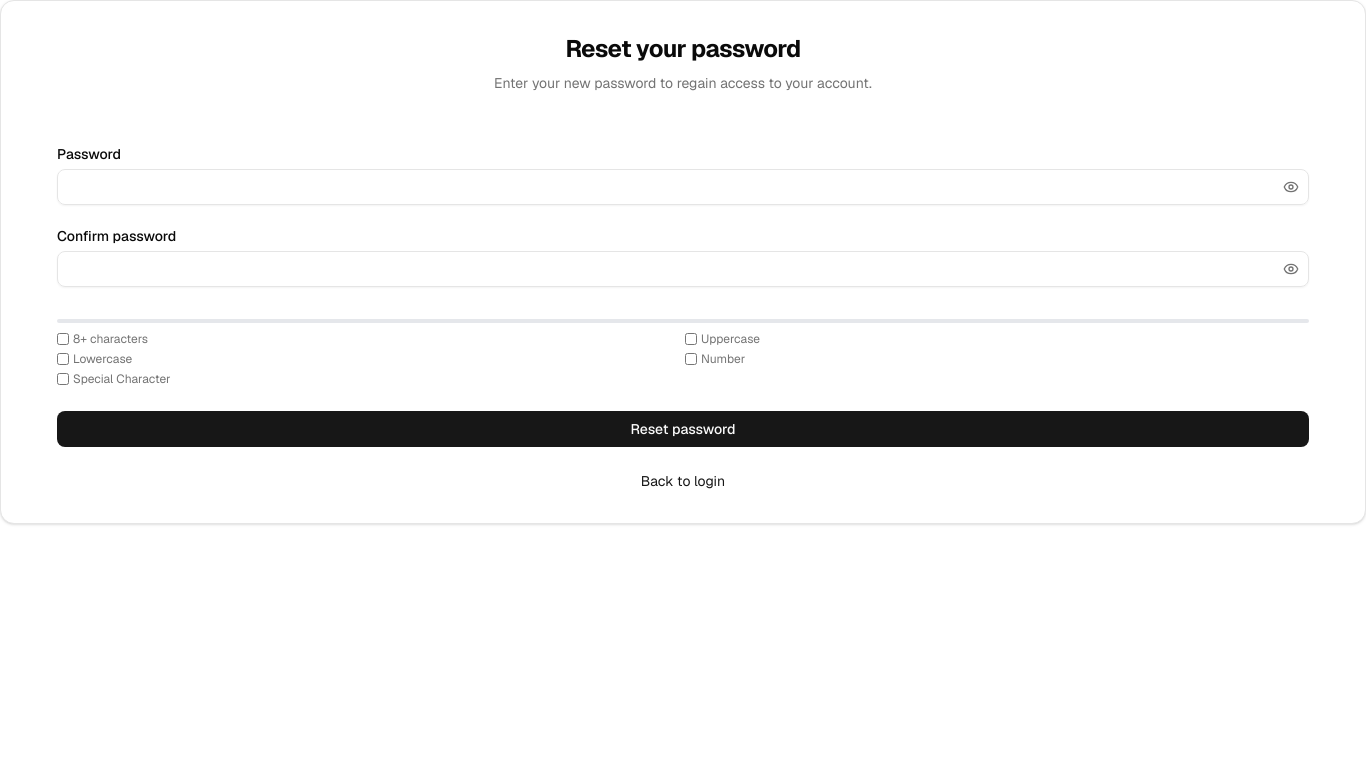
Render Reset Password Form › should show error message when fields are empty
Click the button "Reset password".
click(683, 429)  # box 57,411 -> 1309,447
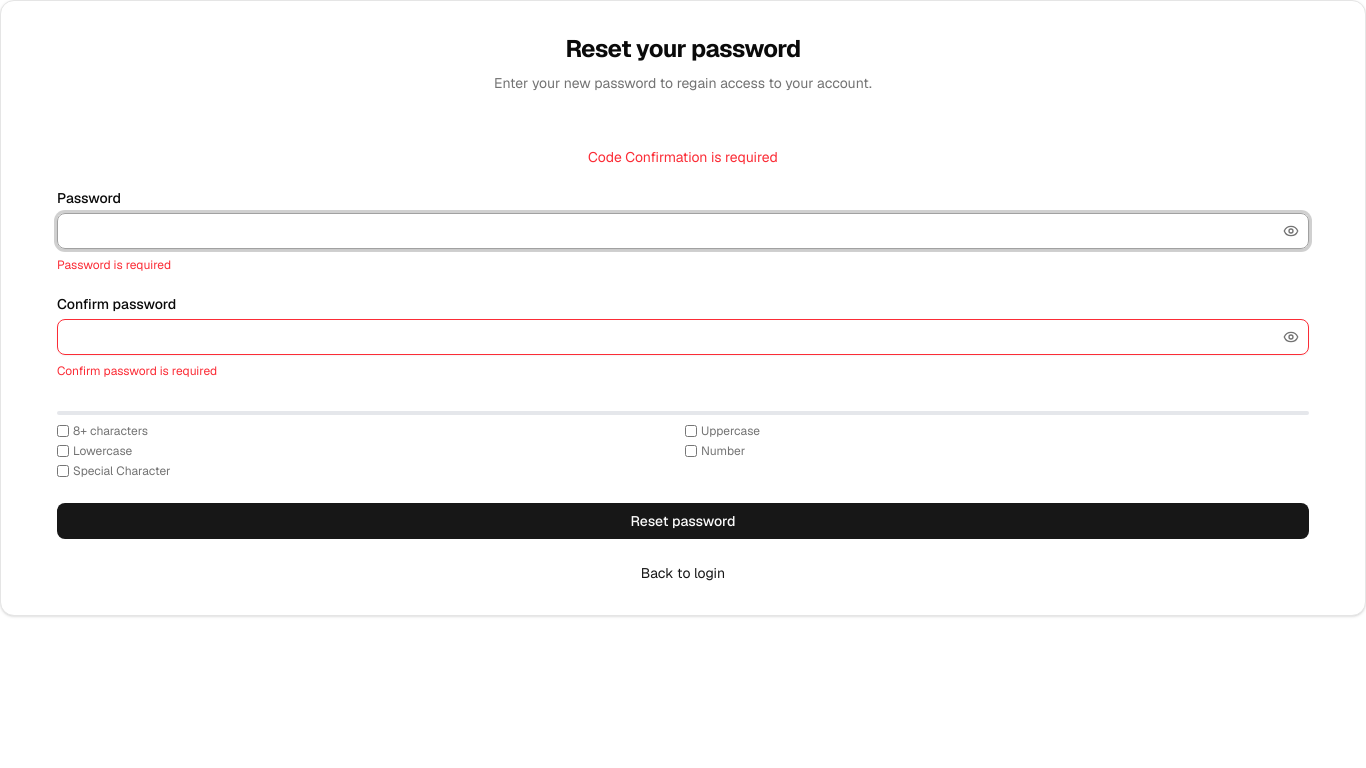
Check: the text "Code Confirmation is required" is shown, box 588,148 -> 778,166
Check: the text "Password is required" is shown, box 57,257 -> 171,273
Check: the text "Confirm password is required" is shown, box 57,363 -> 217,379
